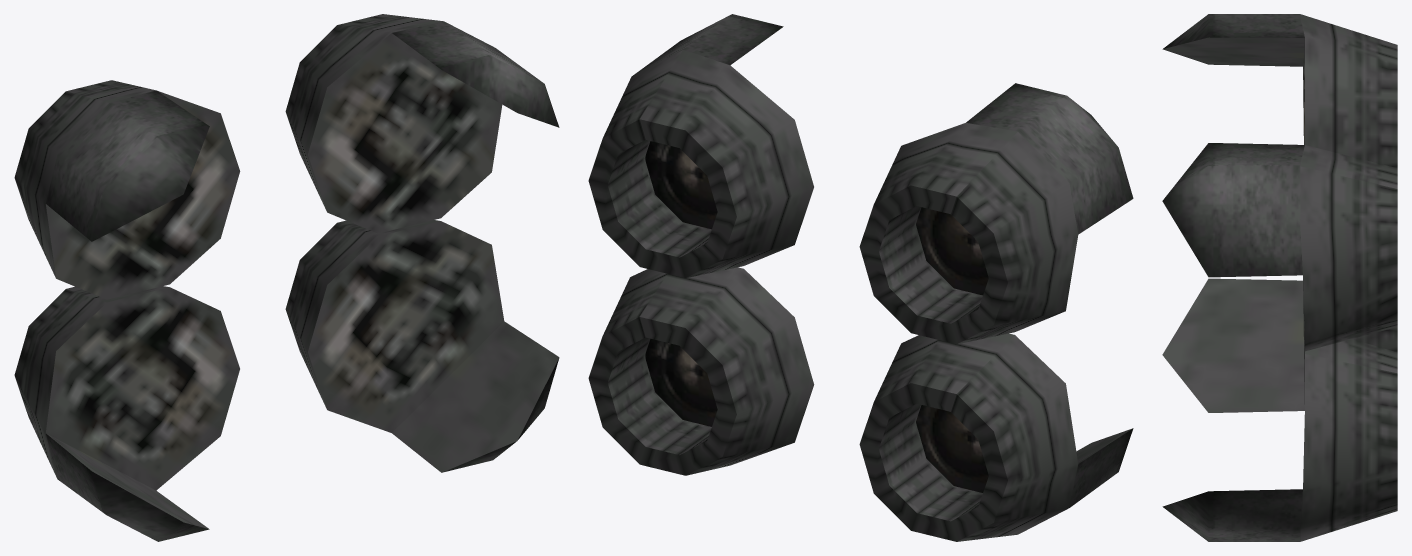
The model's file is bwing_engine_s01_l0.fbx.
3 renders of one model, left to right at view 1: azimuth 30°, elevation 25°; view 2: azimuth 150°, elevation 25°; view 3: azimuth 270°, elevation 25°, orthographic. The views are drawn at different scales.
Parts seen in each view (by area): view 1: mesh_node; view 2: mesh_node; view 3: mesh_node.
Boxes of the visible parts, bbox=[...] form: mesh_node: bbox=[14, 14, 559, 541]; mesh_node: bbox=[588, 14, 1133, 541]; mesh_node: bbox=[1162, 14, 1397, 541].
Size of the model in its own units: 1.78 by 1.47 by 0.8342.
